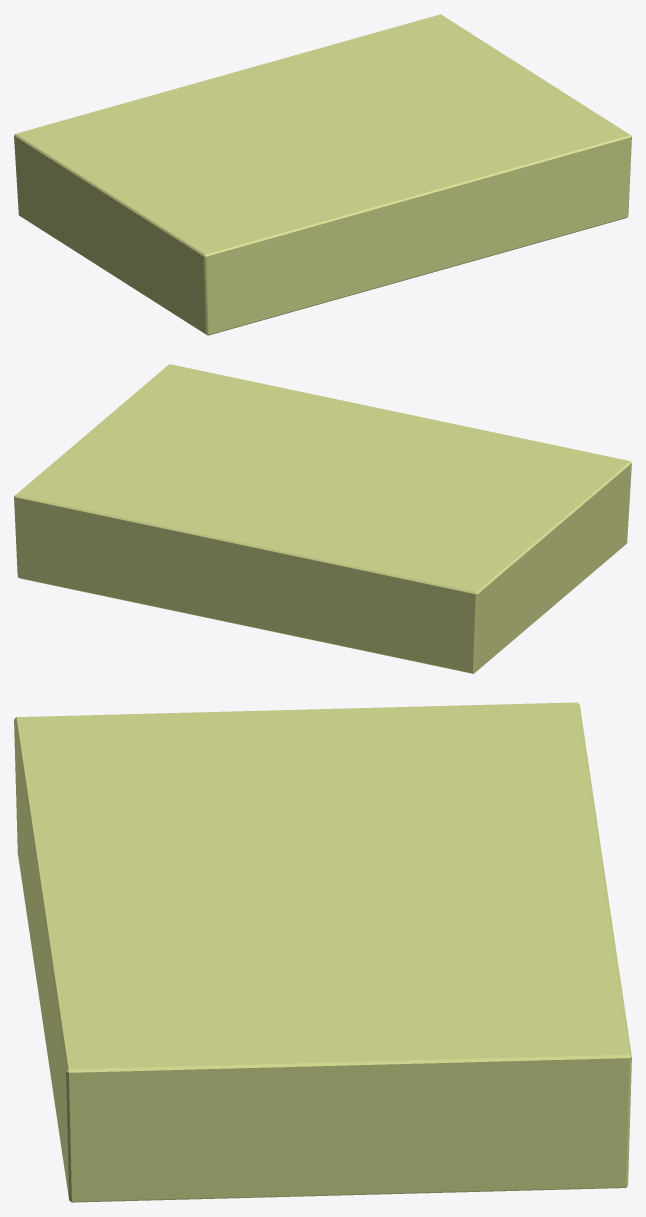
File: file_box_3_cover.fbx
The picture shows the model from 3 angles, top to bottom: view 1: azimuth 30°, elevation 25°; view 2: azimuth 150°, elevation 25°; view 3: azimuth 270°, elevation 25°; orthographic projection. The views are drawn at different scales.
Visible parts, largest first — view 1: file_box_3_cover; view 2: file_box_3_cover; view 3: file_box_3_cover.
Boxes of the visible parts, left/top/right/bottom form: file_box_3_cover: left=14, top=14, right=631, bottom=335; file_box_3_cover: left=14, top=364, right=631, bottom=673; file_box_3_cover: left=14, top=702, right=631, bottom=1202.
Size of the model in its own units: 0.4777 by 0.0819 by 0.3377.
